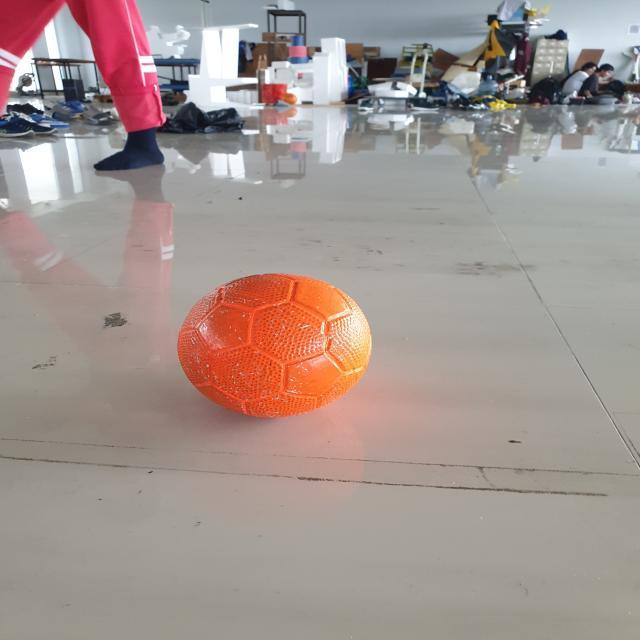bola: (174, 267, 380, 421)
